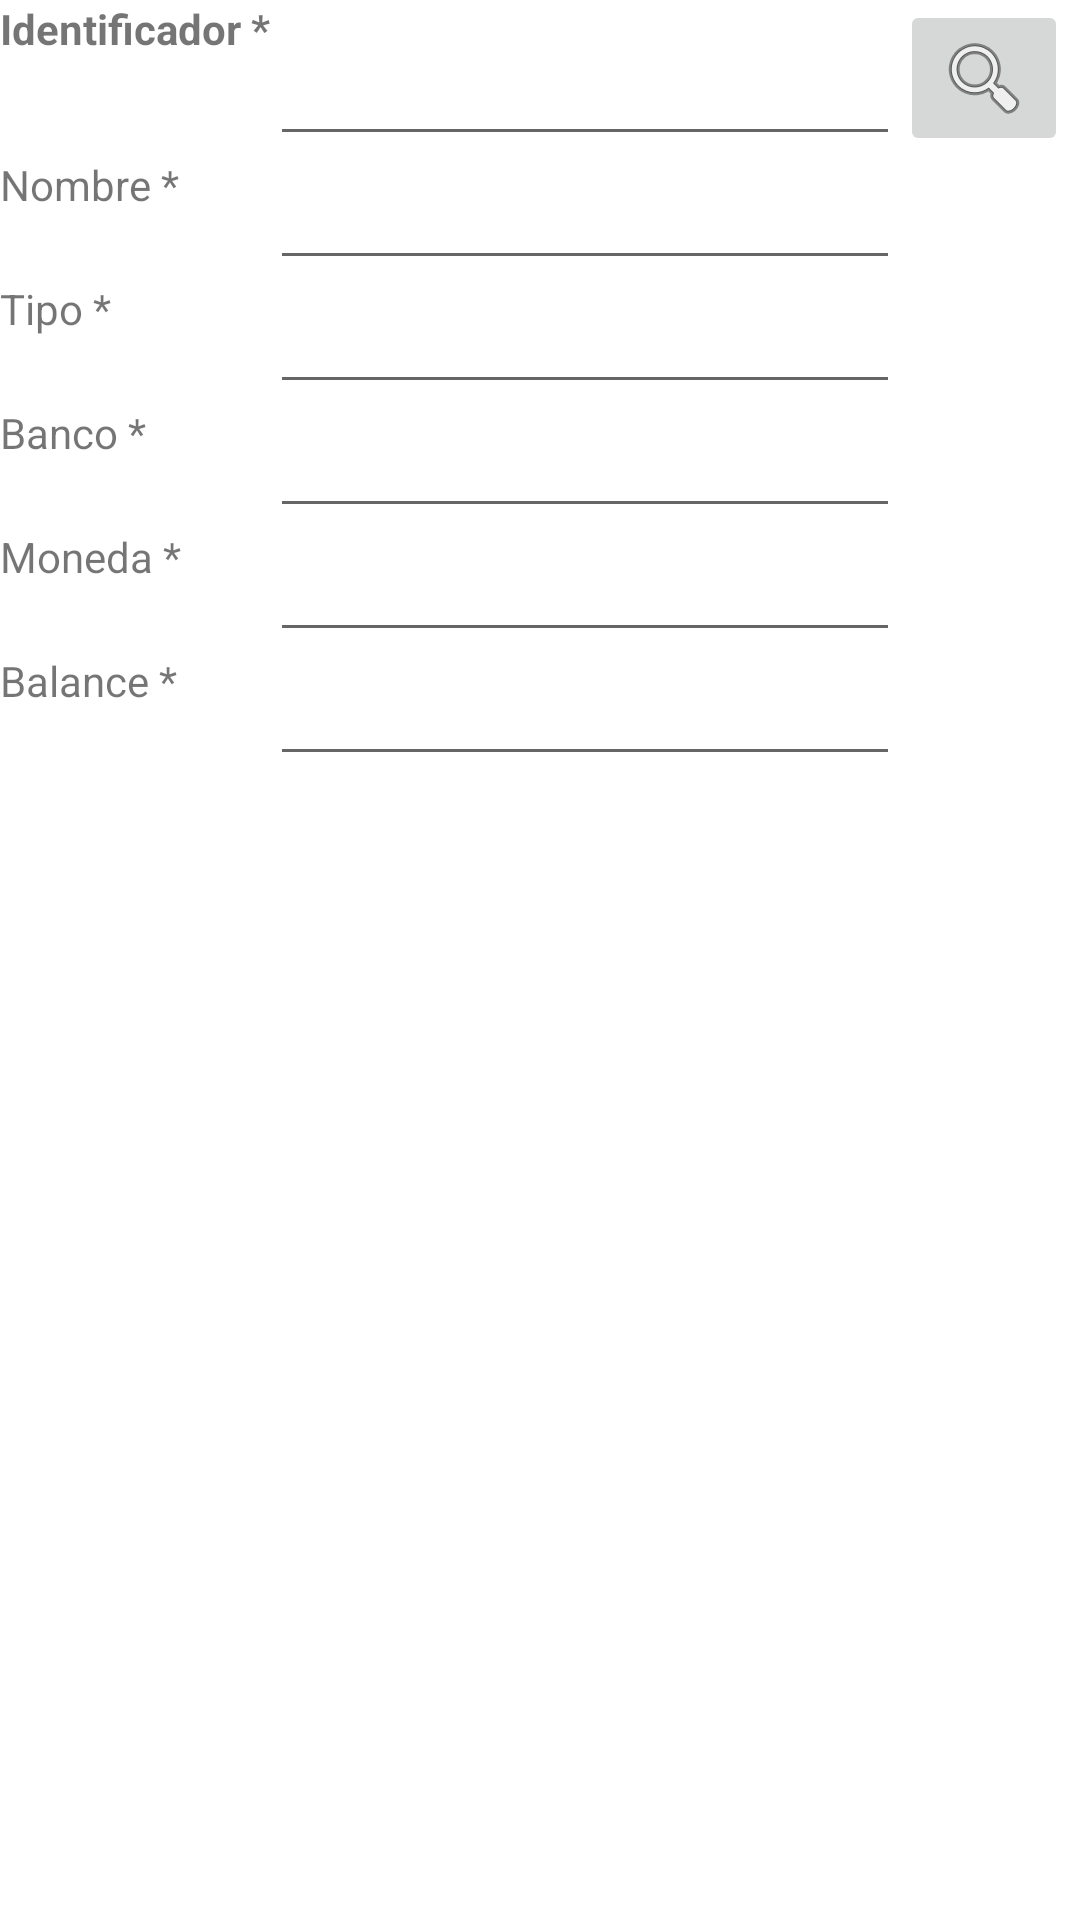

Screen size 1080w x 1920h. Icon name, then its box in pixels as (x1, y1, x2, y2):
search: (912, 18, 1056, 138)
